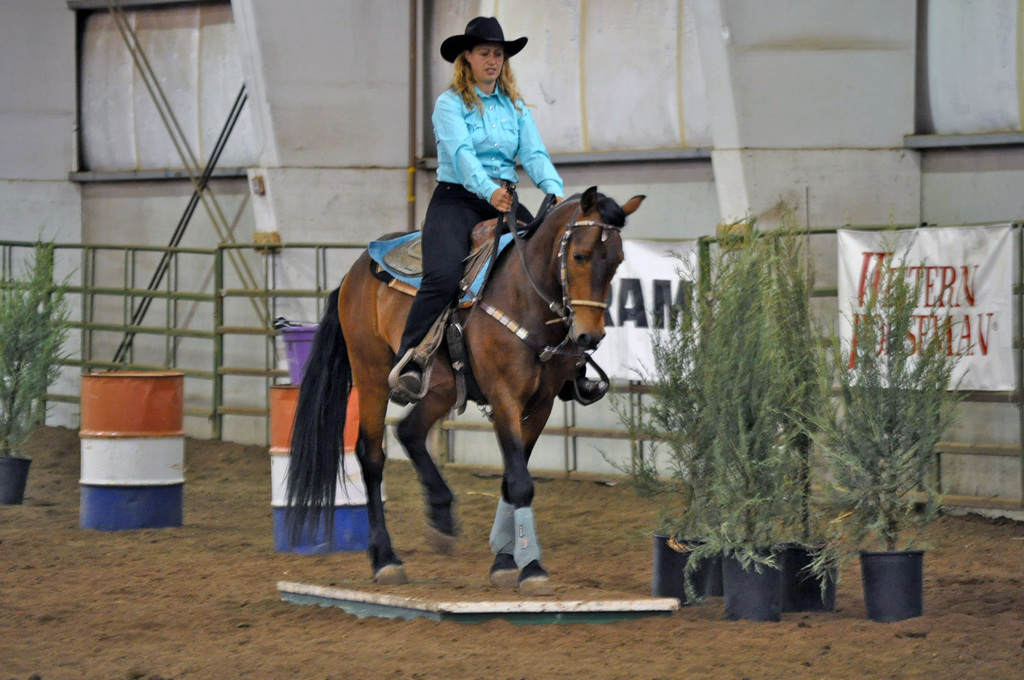horse: (277, 185, 646, 595)
